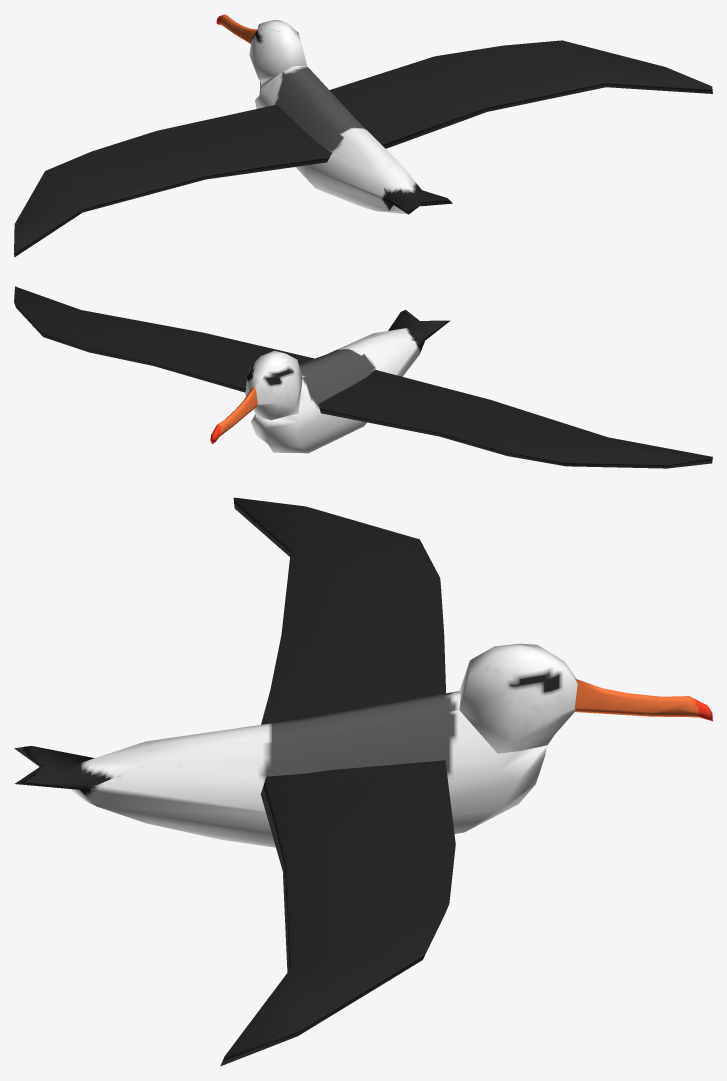
The model's file is Albatross.fbx.
3 views of the same model, one above another, from view 1: azimuth 30°, elevation 25°; view 2: azimuth 150°, elevation 25°; view 3: azimuth 270°, elevation 25° (orthographic). The views are drawn at different scales.
Parts seen in each view (by area): view 1: pSphere5; view 2: pSphere5; view 3: pSphere5.
Boxes of the visible parts, x1,y1,x2,y2 form: pSphere5: (14,14,712,257); pSphere5: (14,286,712,468); pSphere5: (14,497,712,1066).
Size of the model in its own units: 6.52 by 1.09 by 3.47.
Materials: 1 (1 with a texture image).
